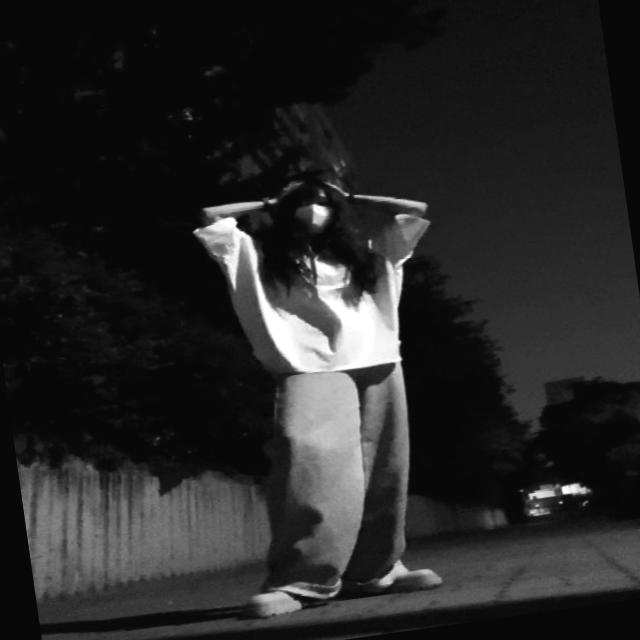denimpants: (244, 352, 432, 607)
shortsleeve: (193, 182, 451, 392)
